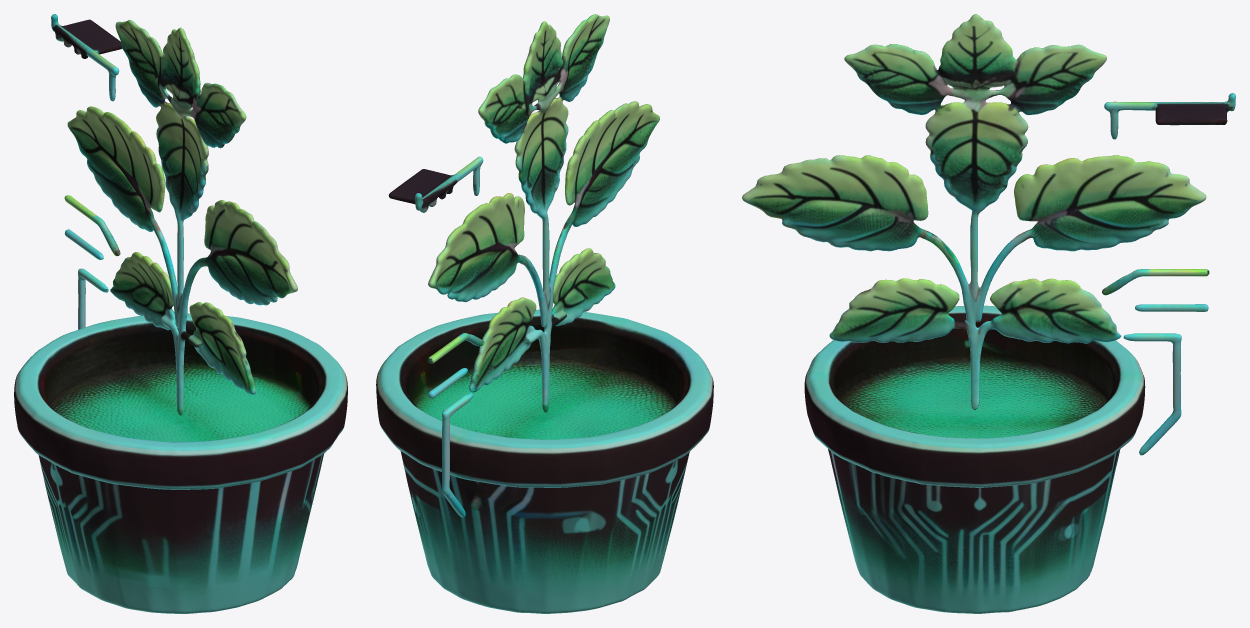
The model's file is tripo_convert_8a6ca7b5-4c33-494c-b569-6bdecf61d62e.obj.
3 renders of one model, left to right at view 1: azimuth 30°, elevation 25°; view 2: azimuth 150°, elevation 25°; view 3: azimuth 270°, elevation 25°, orthographic. The views are drawn at different scales.
Parts seen in each view (by area): view 1: tripo_node_8a6ca7b5-4c33-494c-b569-6bdecf61d62e; view 2: tripo_node_8a6ca7b5-4c33-494c-b569-6bdecf61d62e; view 3: tripo_node_8a6ca7b5-4c33-494c-b569-6bdecf61d62e.
Part boxes in pixels (bbox=[...]): tripo_node_8a6ca7b5-4c33-494c-b569-6bdecf61d62e: bbox=[14, 14, 347, 613]; tripo_node_8a6ca7b5-4c33-494c-b569-6bdecf61d62e: bbox=[376, 14, 713, 613]; tripo_node_8a6ca7b5-4c33-494c-b569-6bdecf61d62e: bbox=[742, 14, 1235, 613].
Bounding box in the file's own units: 0.5261 × 0.9463 × 0.7554.
Materials: 1 (1 with a texture image).
